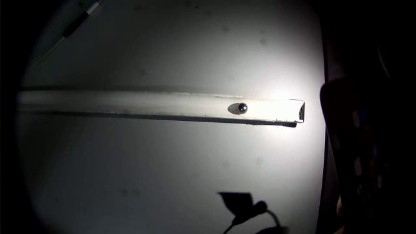gangzhu: (237, 102, 247, 114)
